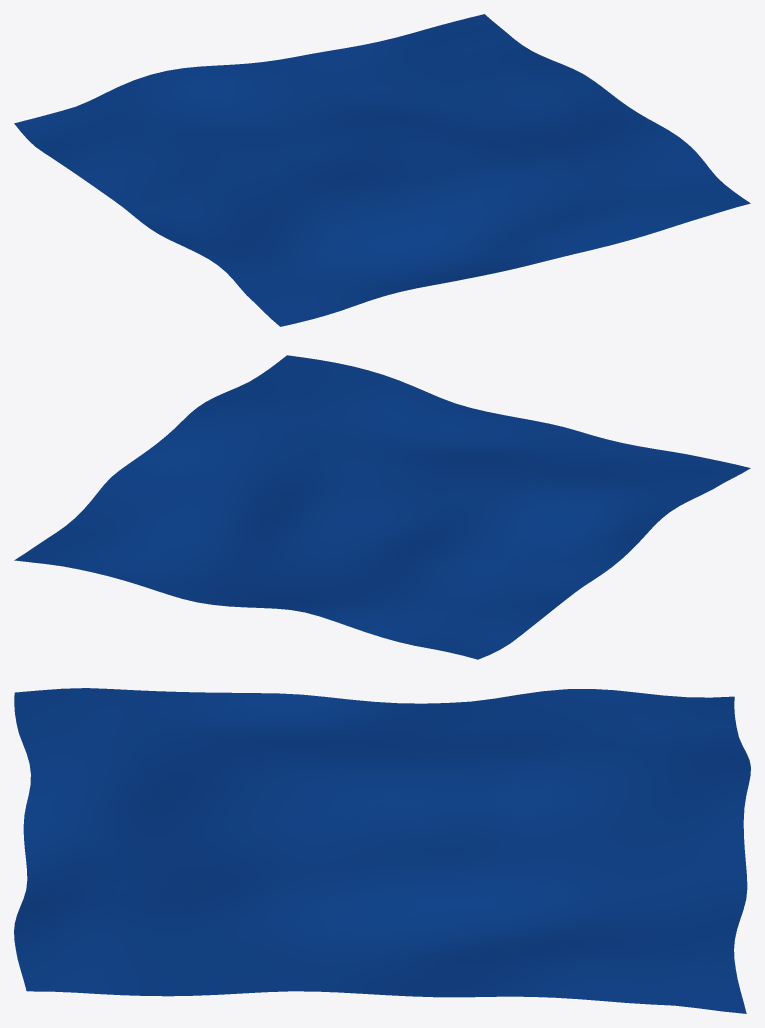
File: wave_5.obj
3 views of the same model, one above another, from view 1: azimuth 30°, elevation 25°; view 2: azimuth 150°, elevation 25°; view 3: azimuth 270°, elevation 25° (orthographic). The views are drawn at different scales.
Parts seen in each view (by area): view 1: Plane001; view 2: Plane001; view 3: Plane001.
Boxes of the visible parts, bbox=[...] form: Plane001: bbox=[14, 14, 750, 326]; Plane001: bbox=[14, 355, 750, 659]; Plane001: bbox=[14, 688, 750, 1013].
Size of the model in its own units: 403 by 18.5 by 403.
